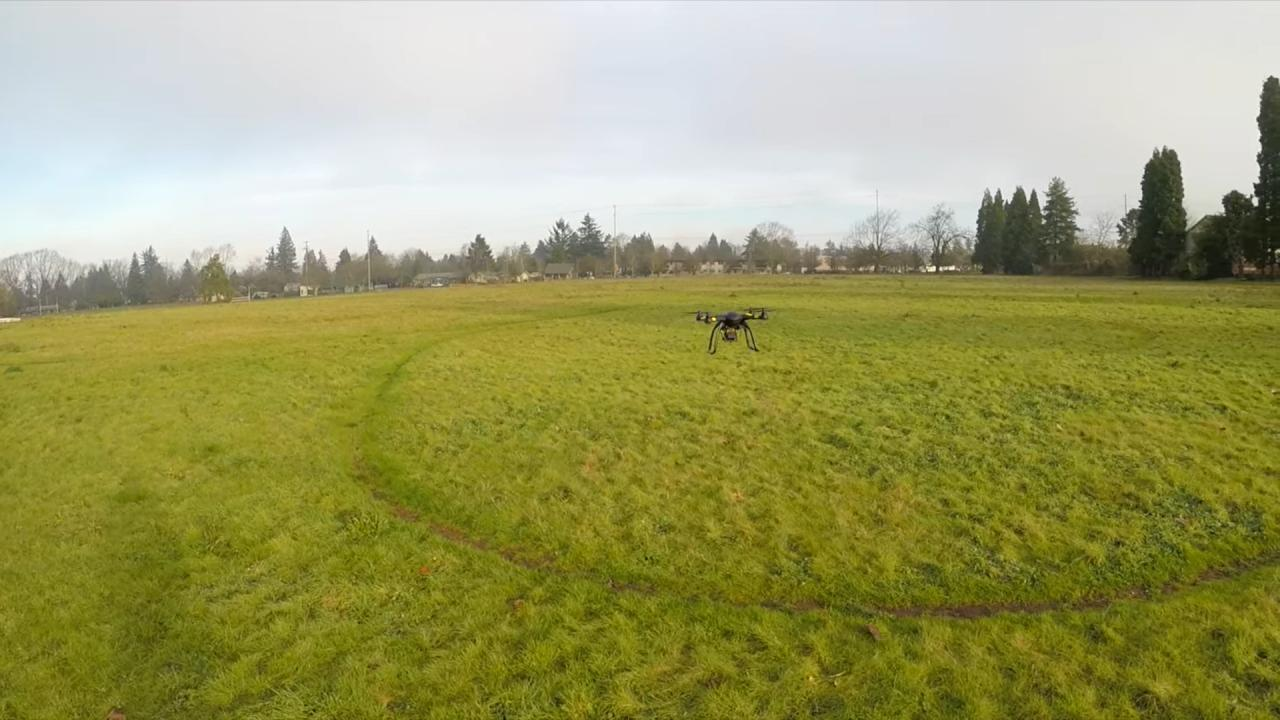Drone: (672, 301, 789, 361)
